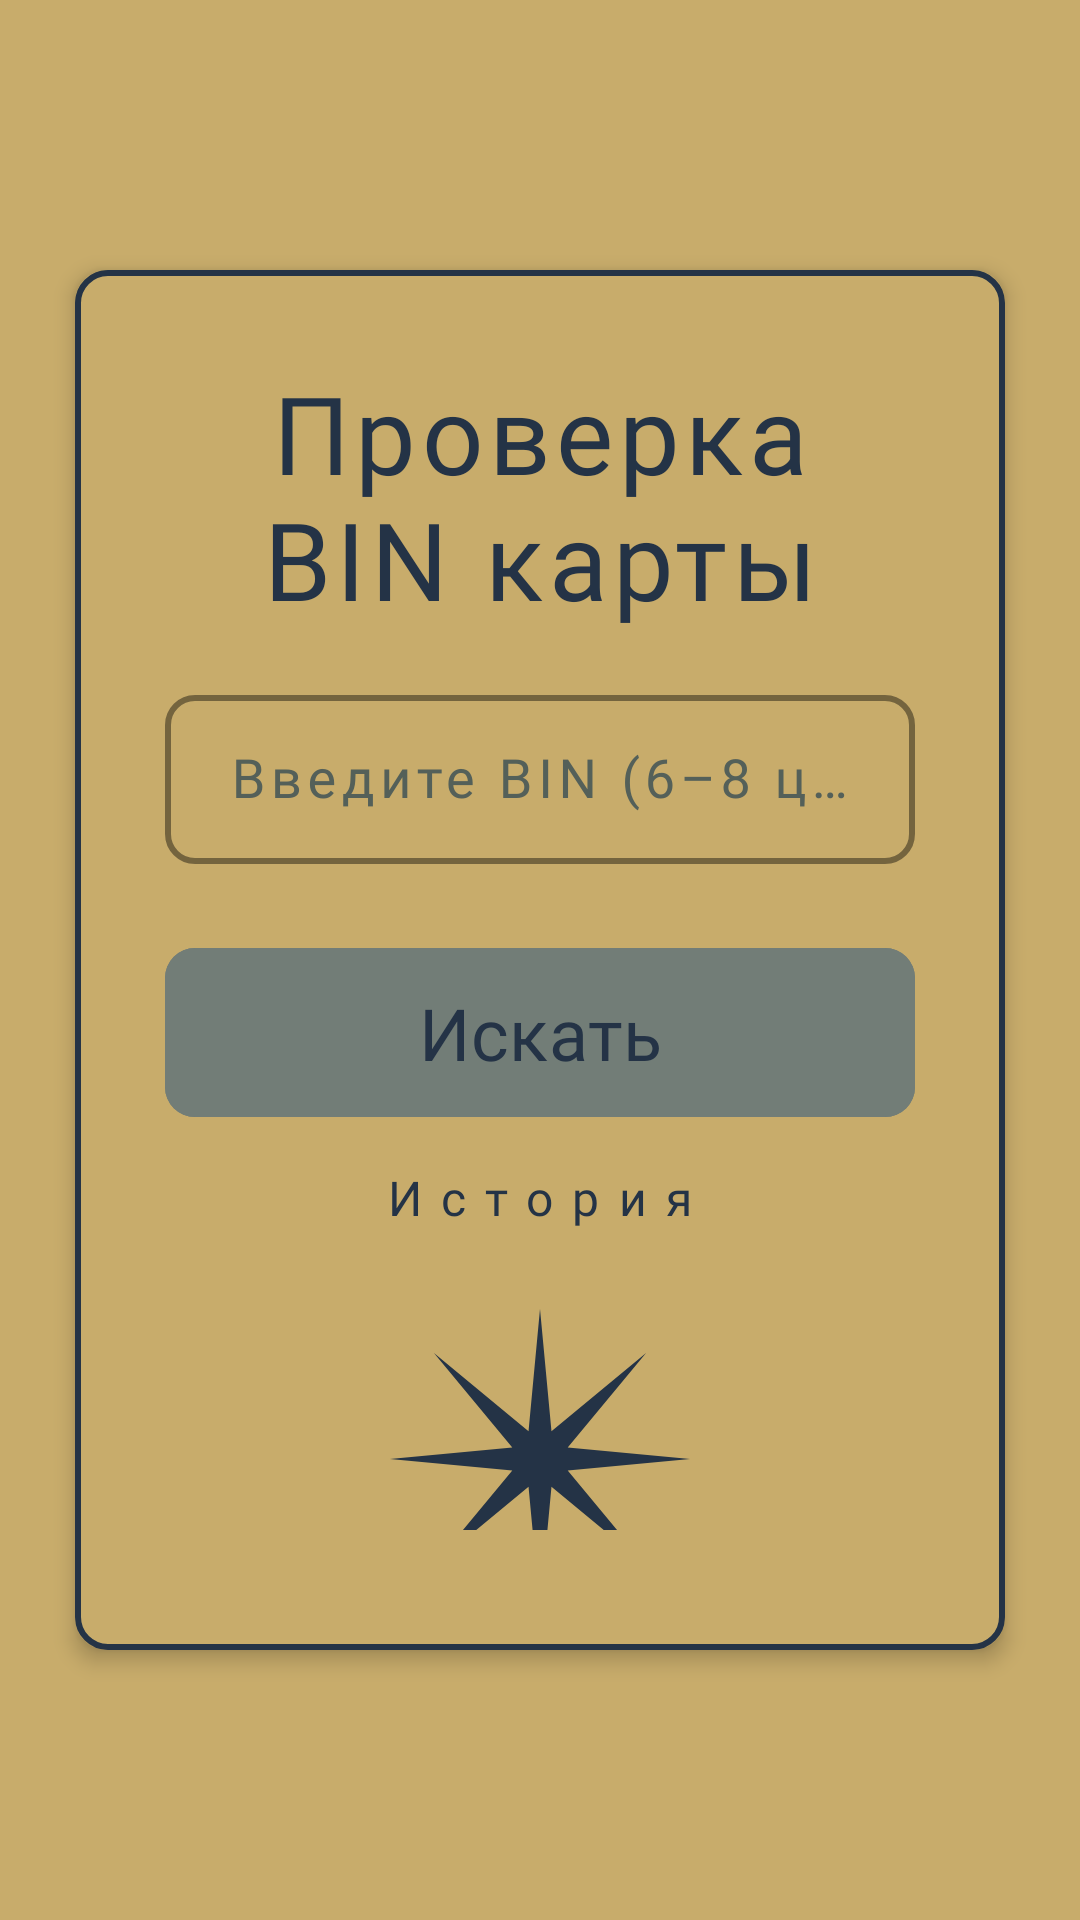

Named icons in this screenshot (1080 x 1920) and their bounding boxes, (x1, y1, x2, y2):
star: (392, 1311, 688, 1530)
